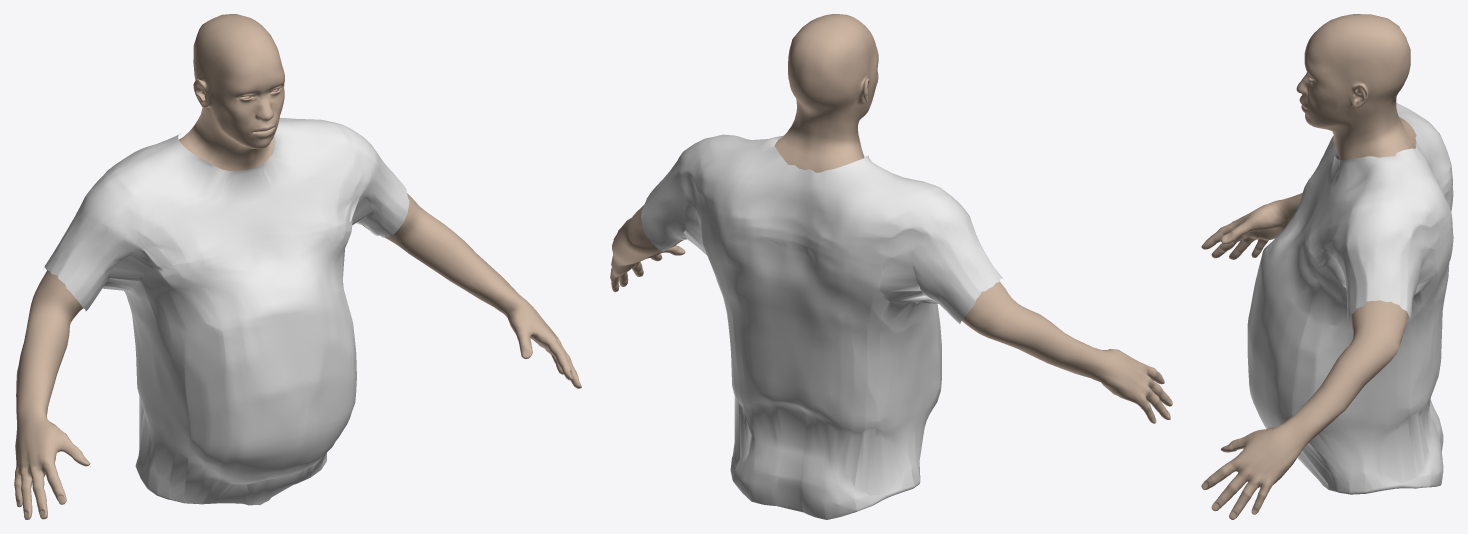
3 views of the same model, side by side, from view 1: azimuth 30°, elevation 25°; view 2: azimuth 150°, elevation 25°; view 3: azimuth 270°, elevation 25° (orthographic). The views are drawn at different scales.
Parts seen in each view (by area): view 1: Cube, Base; view 2: Cube, Base; view 3: Cube, Base.
Boxes of the visible parts, box(x1,y1,x2,y2) form: Cube: box(44, 118, 409, 505); Base: box(14, 14, 581, 519); Cube: box(641, 134, 1002, 519); Base: box(610, 14, 1172, 423); Cube: box(1247, 103, 1453, 494); Base: box(1201, 14, 1416, 519).
Bounding box in the file's own units: 10.48 × 8.44 × 4.26.
